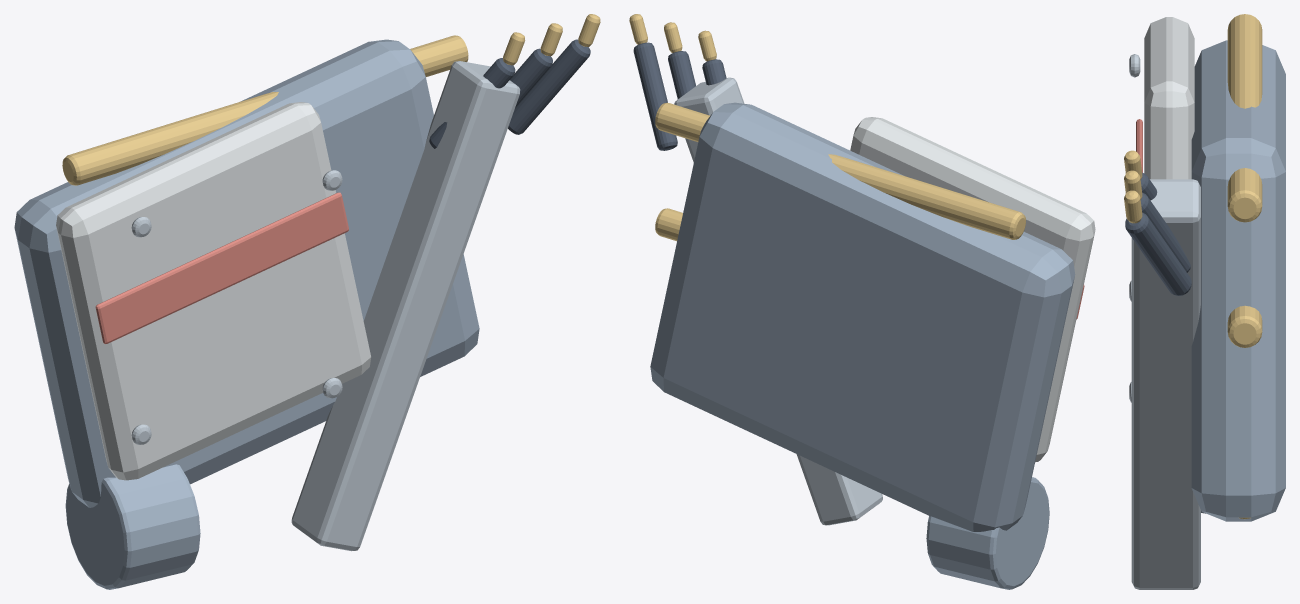
Rendered from HullWreckage.fbx.
3 renders of one model, left to right at view 1: azimuth 30°, elevation 25°; view 2: azimuth 150°, elevation 25°; view 3: azimuth 270°, elevation 25°, orthographic. The views are drawn at different scales.
Parts seen in each view (by area): view 1: HullWreckage; view 2: HullWreckage; view 3: HullWreckage.
Part boxes in pixels (box(x1,y1,x2,y2)): HullWreckage: box(14, 14, 600, 589); HullWreckage: box(629, 14, 1095, 589); HullWreckage: box(1124, 14, 1285, 589).
Bounding box in the file's own units: 2.1 × 1.85 × 0.5143.
